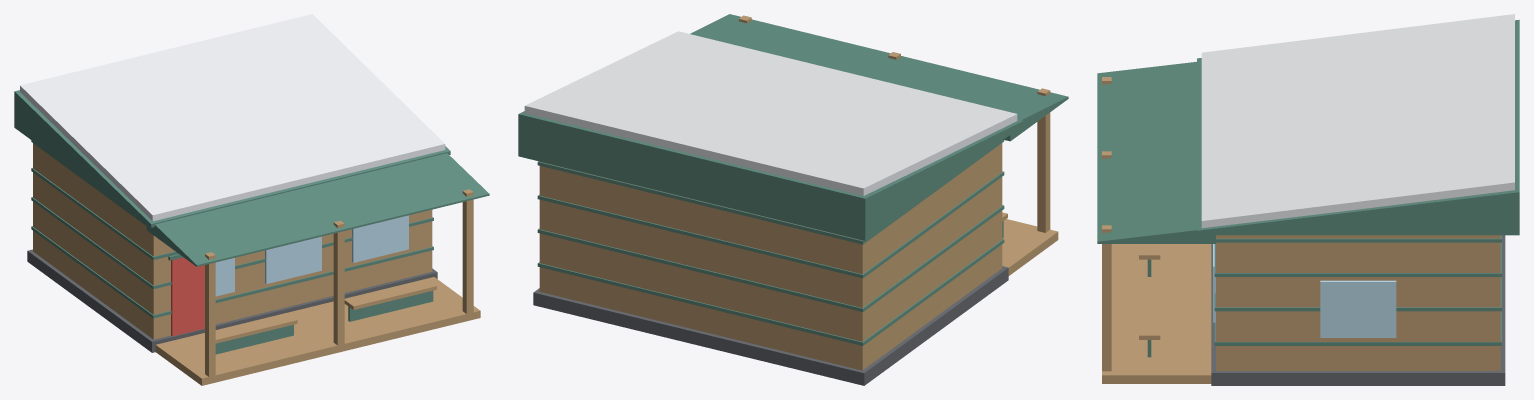
Rendered from lodgewing.glb.
3 renders of one model, left to right at view 1: azimuth 30°, elevation 25°; view 2: azimuth 150°, elevation 25°; view 3: azimuth 270°, elevation 25°, orthographic. The views are drawn at different scales.
Visible parts, largest first — view 1: lodge-wing; view 2: lodge-wing; view 3: lodge-wing.
Part boxes in pixels (<box>): lodge-wing: <box>14,14,489,385</box>; lodge-wing: <box>518,14,1068,385</box>; lodge-wing: <box>1097,14,1519,385</box>.
Bounding box in the file's own units: 8.6 × 4.78 × 8.9.
